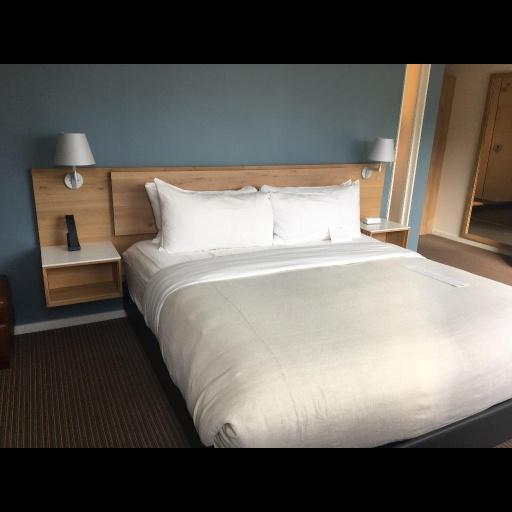clean_bed: (112, 166, 511, 454)
lamp: (51, 130, 95, 193), (361, 133, 401, 182)
organised_pillow: (144, 182, 369, 252)
